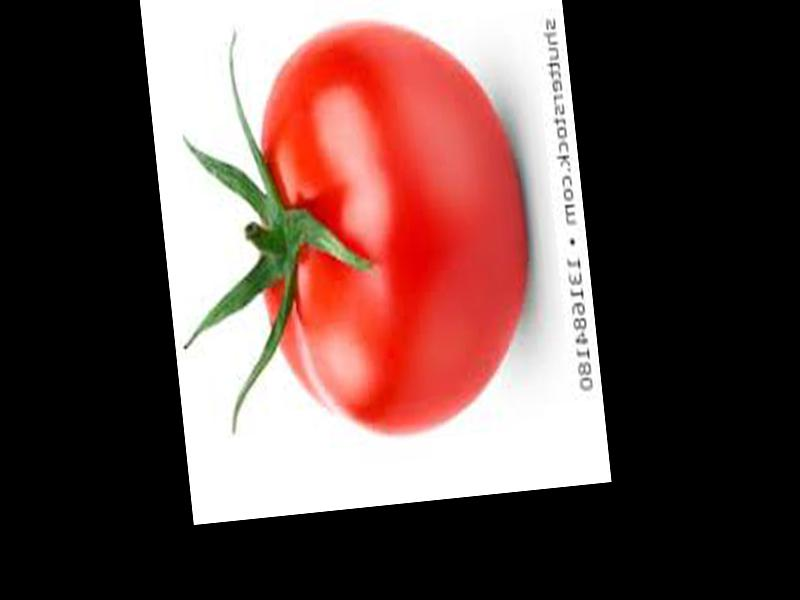Tomato: (239, 9, 542, 448)
